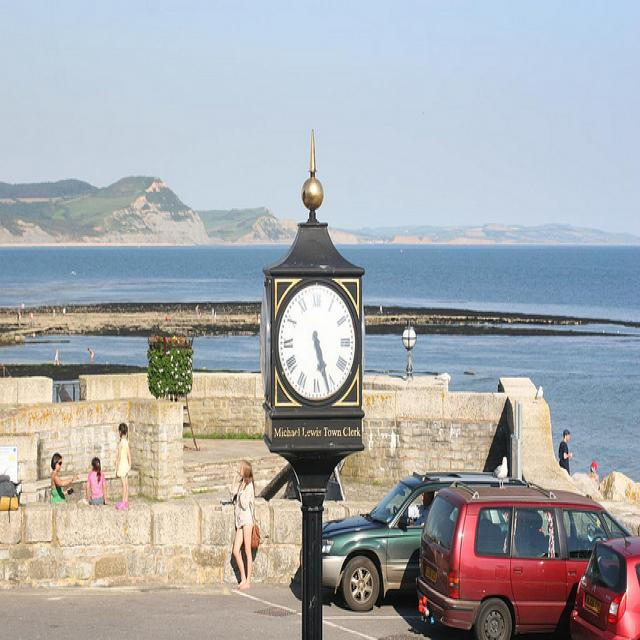Vehicle: (417, 477, 632, 633), (322, 471, 494, 613), (571, 535, 640, 638)
